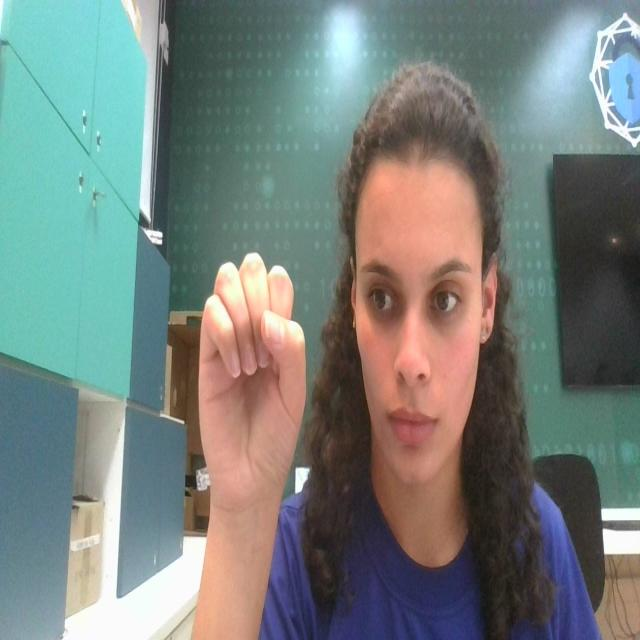S: (190, 249, 311, 515)
